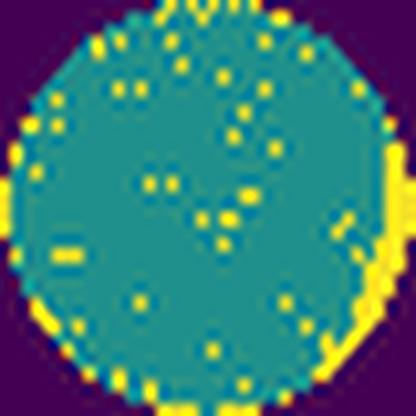Edge-Loc: (312, 138, 415, 382)
